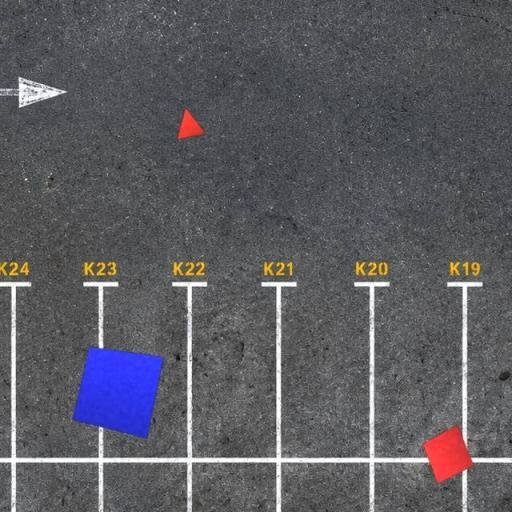BLUE_SQUARE: (72, 346, 165, 440)
RED_SQUARE: (422, 424, 474, 485)
